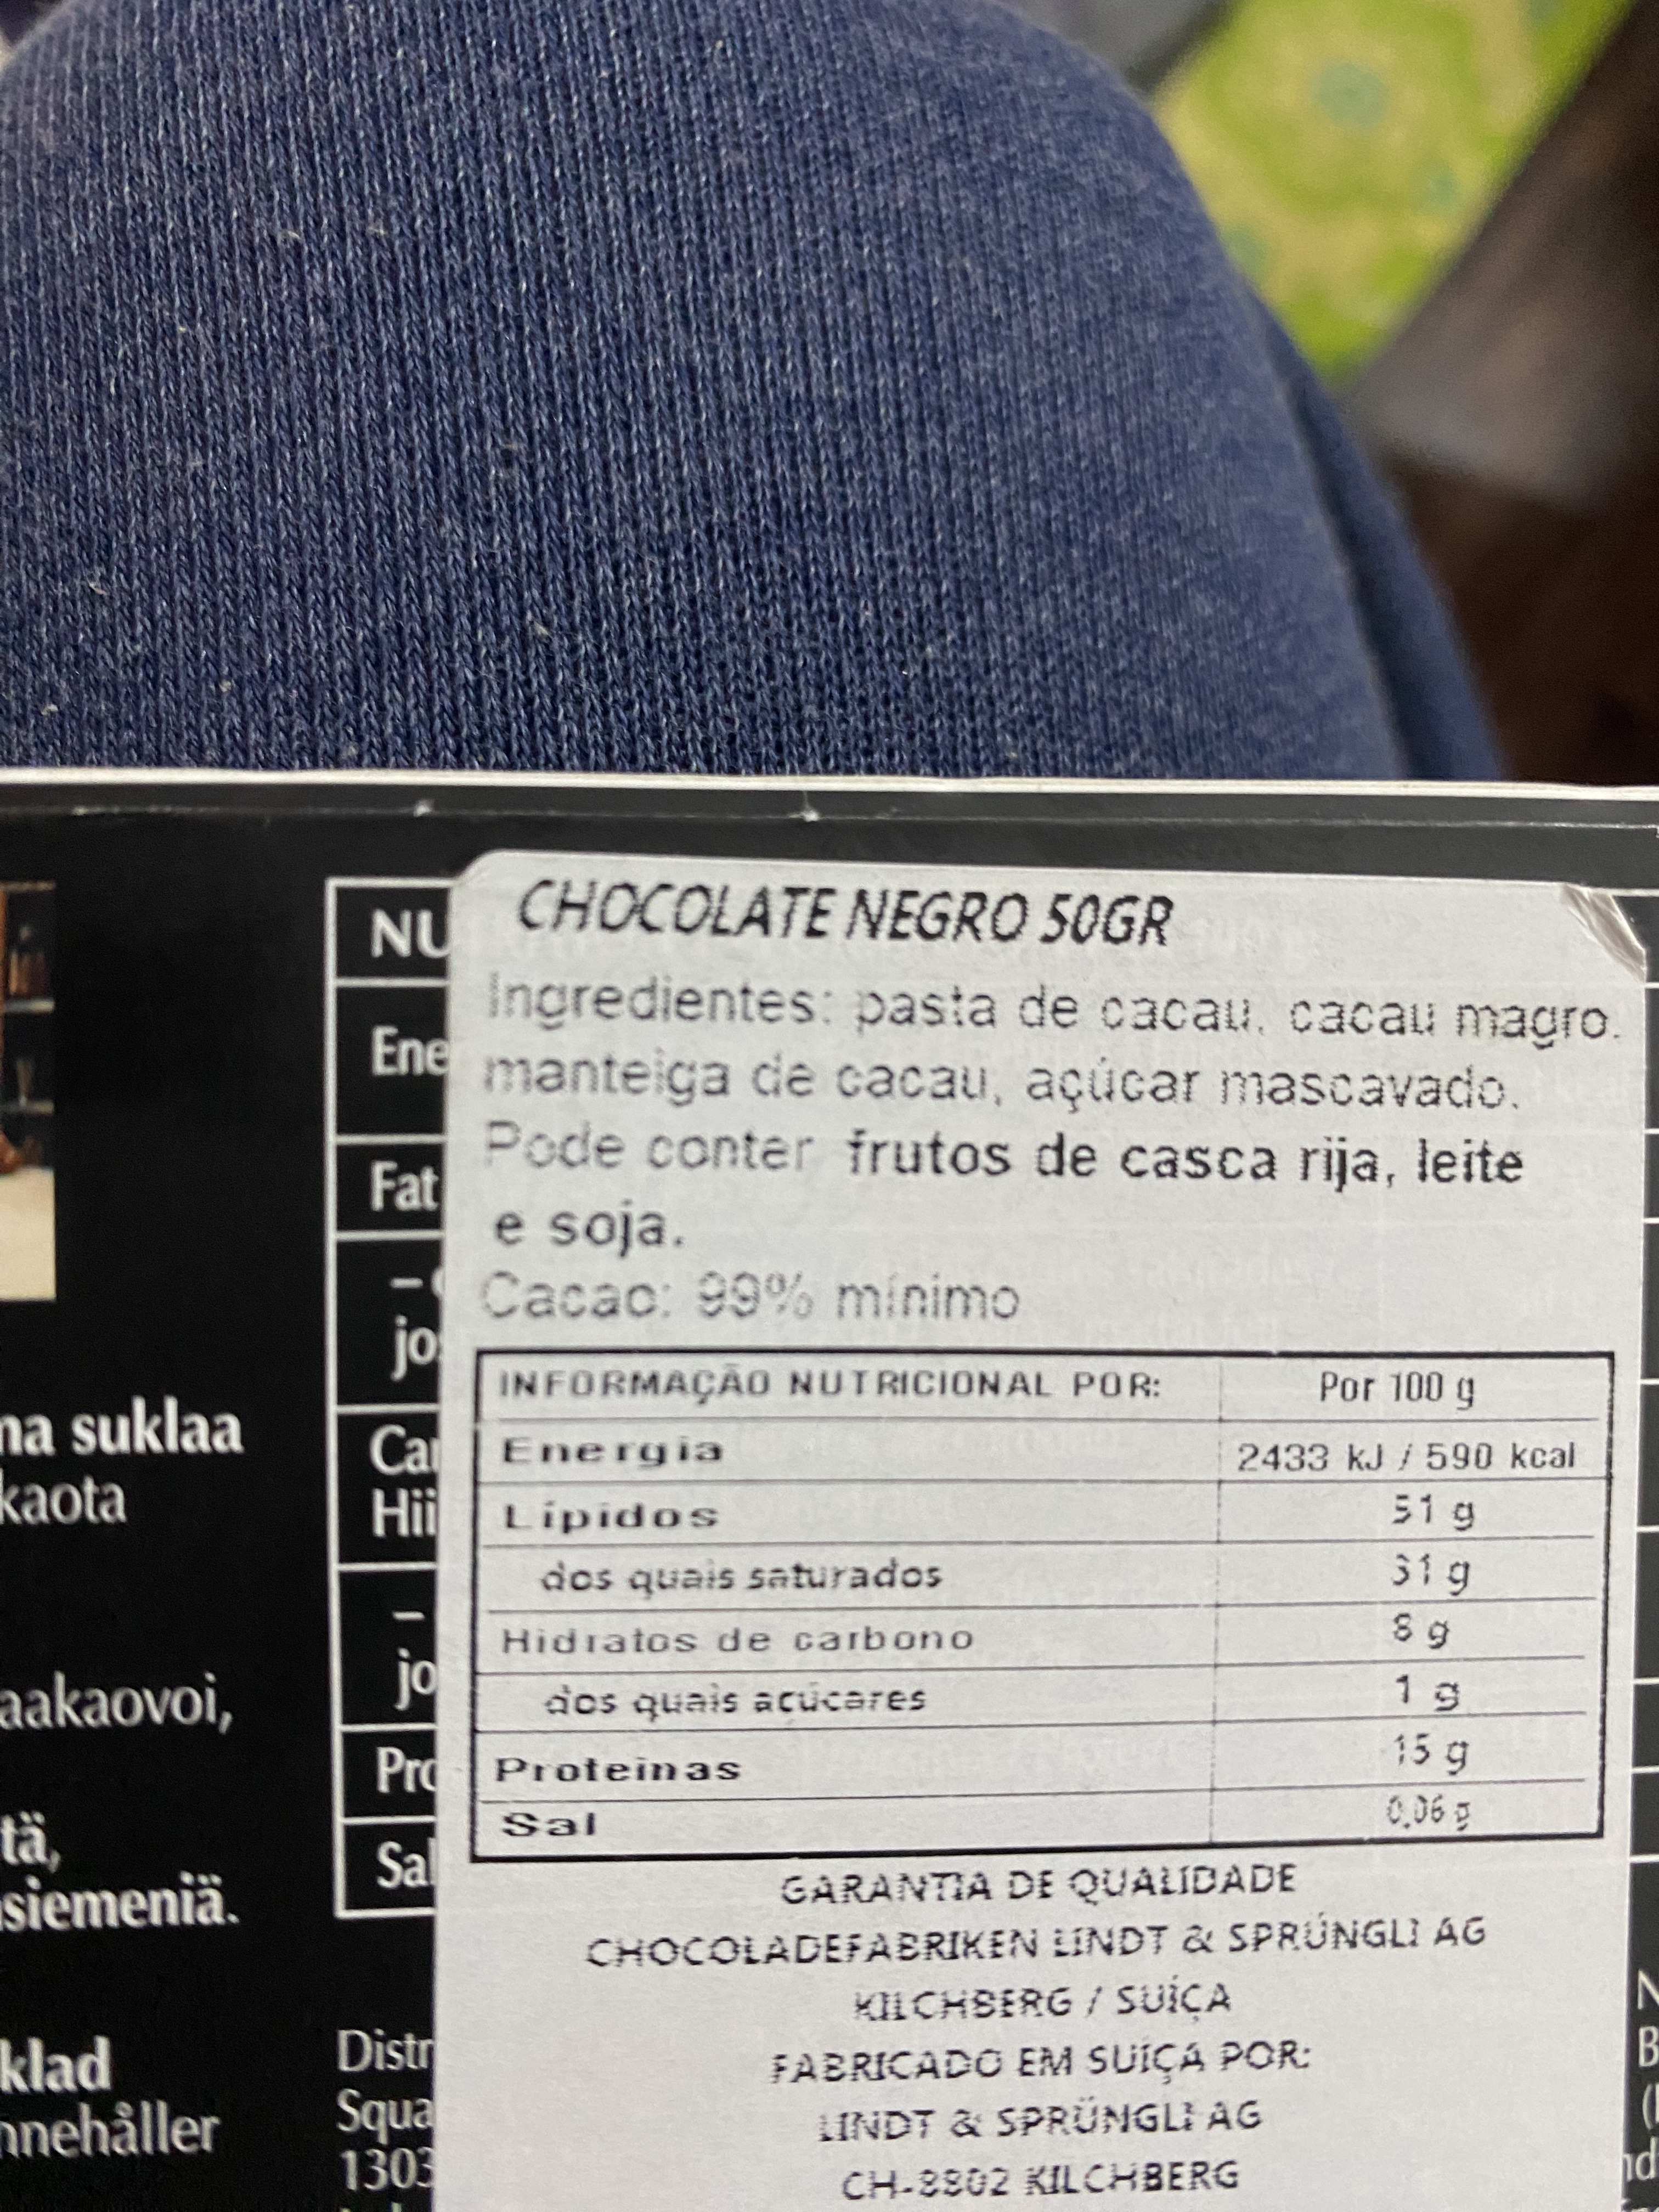table: (464, 1338, 1621, 1862)
